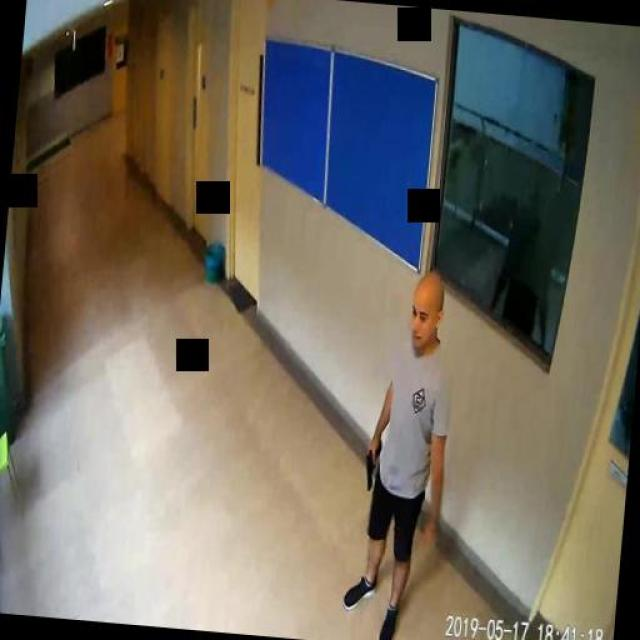gun: (361, 438, 381, 492)
